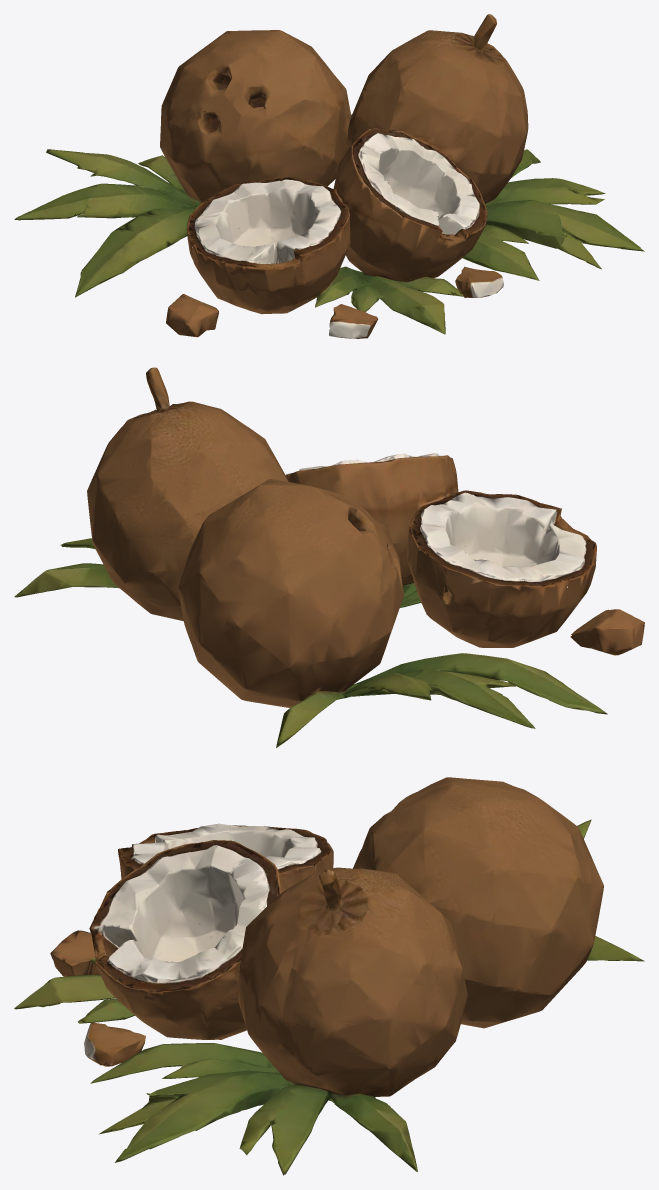
File: fallen_coconuts.glb
3 renders of one model, top to bottom at view 1: azimuth 30°, elevation 25°; view 2: azimuth 150°, elevation 25°; view 3: azimuth 270°, elevation 25°, orthographic. The views are drawn at different scales.
Visible parts, largest first — view 1: tripo_node_a7abfb55-fdda-4c35-a84b-80b25d50cc73; view 2: tripo_node_a7abfb55-fdda-4c35-a84b-80b25d50cc73; view 3: tripo_node_a7abfb55-fdda-4c35-a84b-80b25d50cc73.
Part boxes in pixels (box(x1,y1,x2,y2)): tripo_node_a7abfb55-fdda-4c35-a84b-80b25d50cc73: box(14, 14, 644, 338); tripo_node_a7abfb55-fdda-4c35-a84b-80b25d50cc73: box(14, 367, 644, 747); tripo_node_a7abfb55-fdda-4c35-a84b-80b25d50cc73: box(14, 777, 644, 1175).
Size of the model in its own units: 0.9827 by 0.3646 by 0.8328.
Materials: 1 (1 with a texture image).
